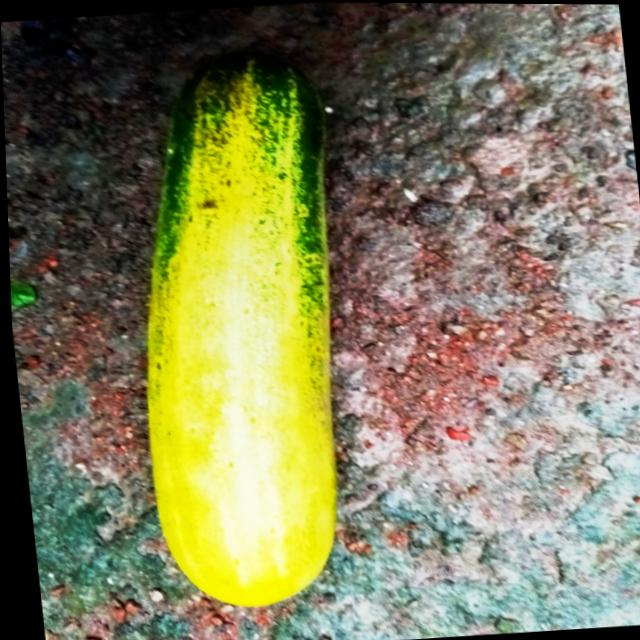Fresh-Cucumber: (103, 39, 378, 617)
